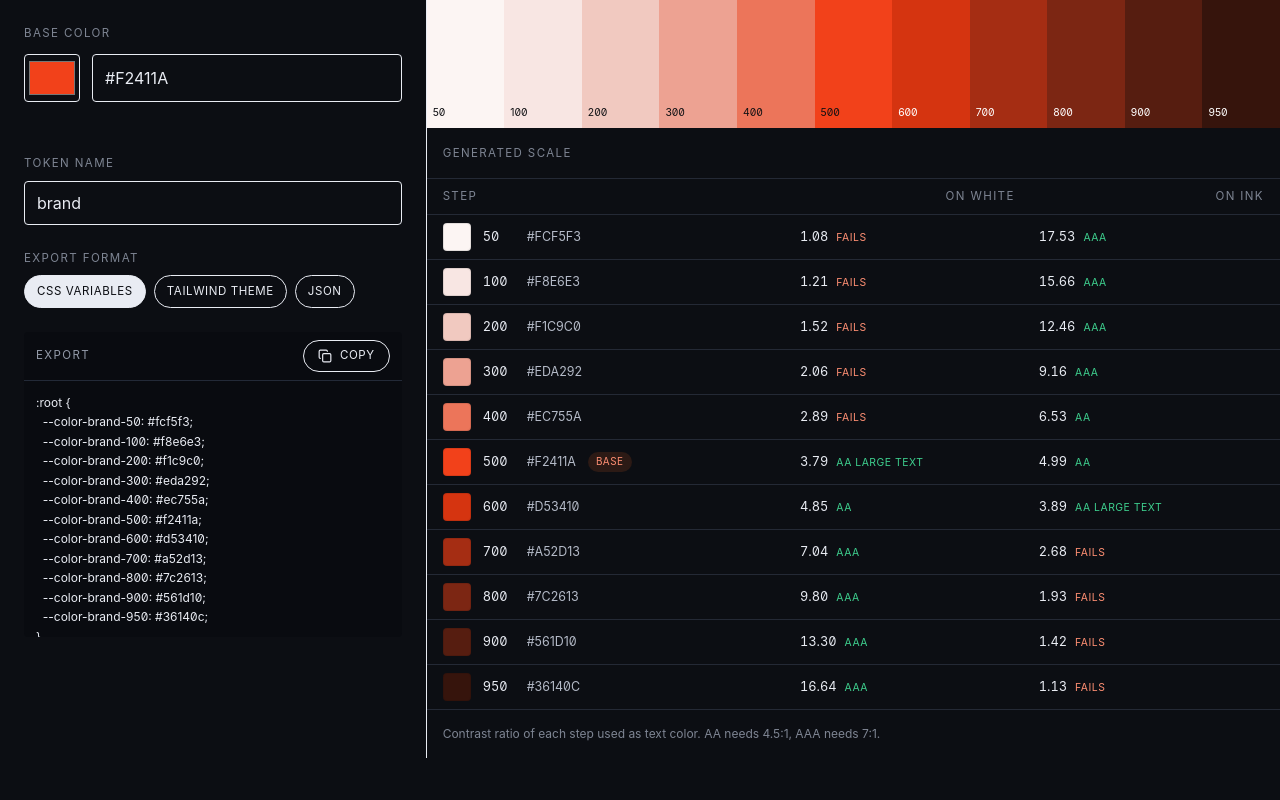
TokenTool › generates an 11-step scale and flags invalid colours without losing the last scale
Replace the text in the field with id "hex-input" with "#12" at (247, 78), box [92,54,402,102]
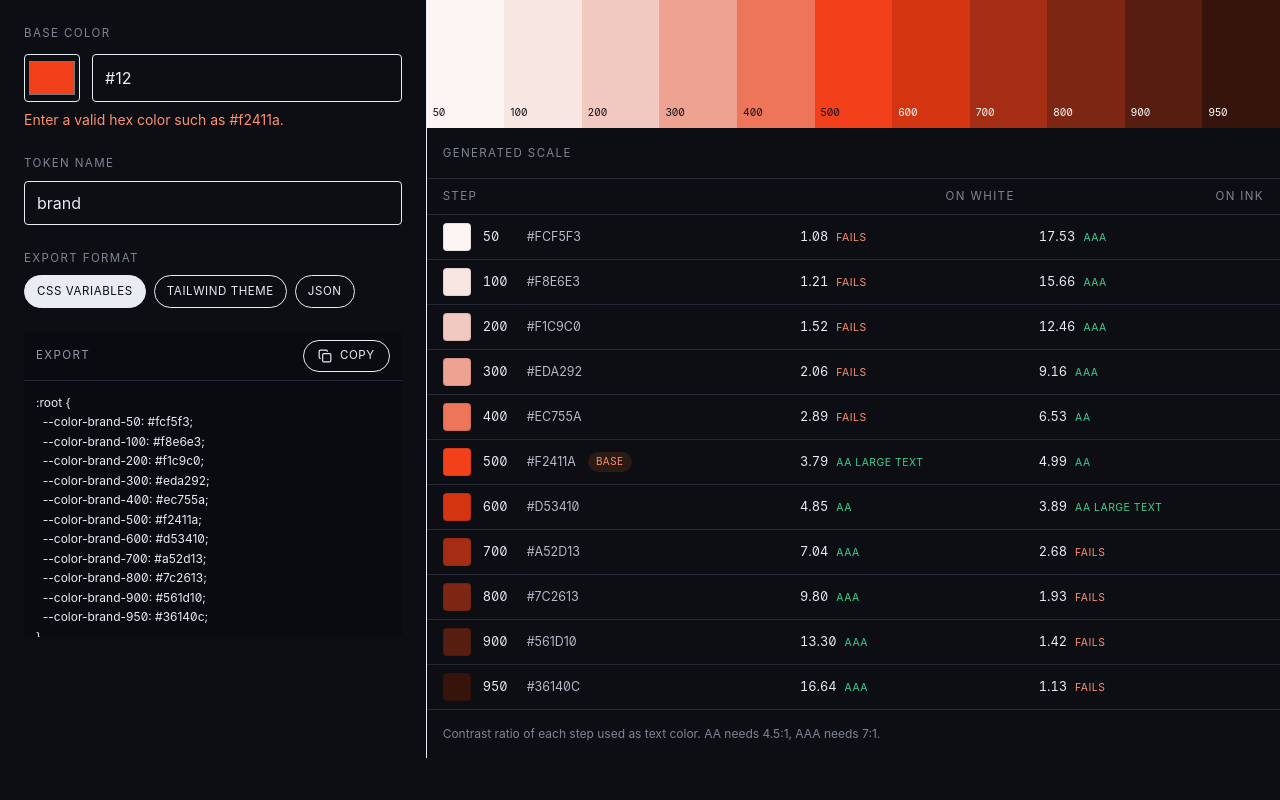
Expected: the message reads "Enter a valid hex color such as #f2411a.", [24,111,284,128]
